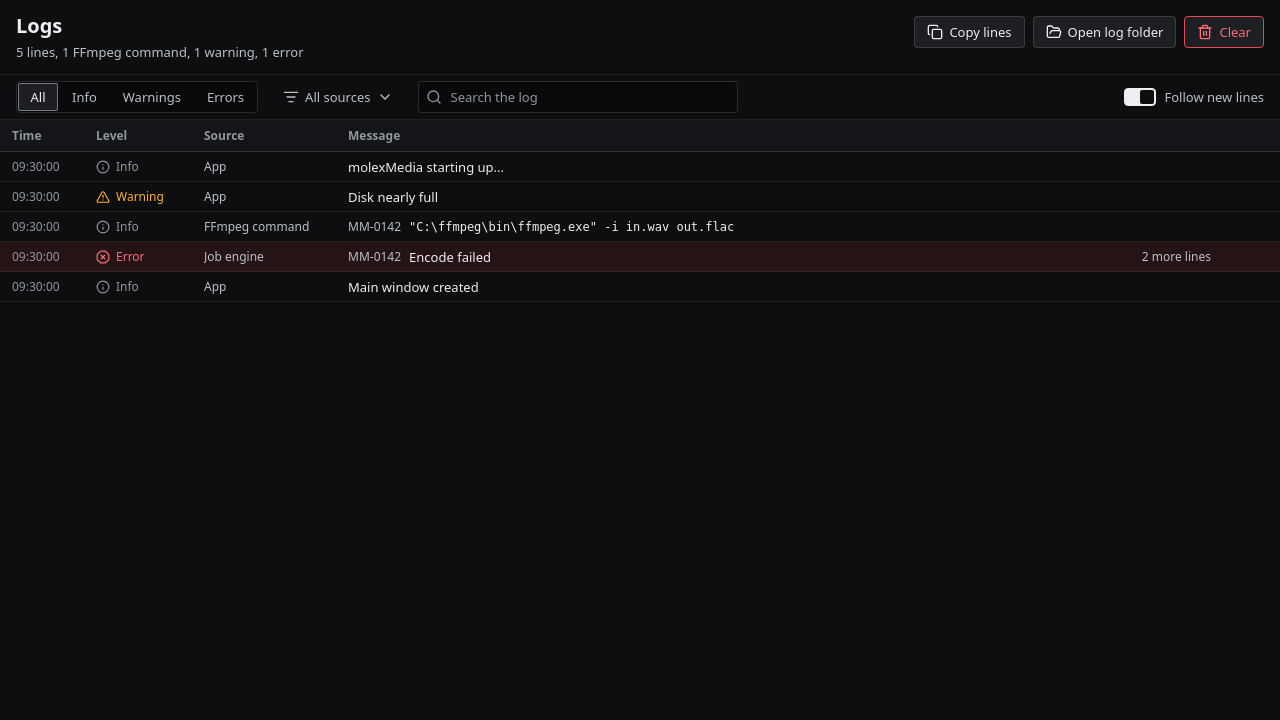
LogViewer list › opens a line's hidden lines from its More lines button
Click the button "2 more lines": click(1176, 257) [1133,245,1220,269]
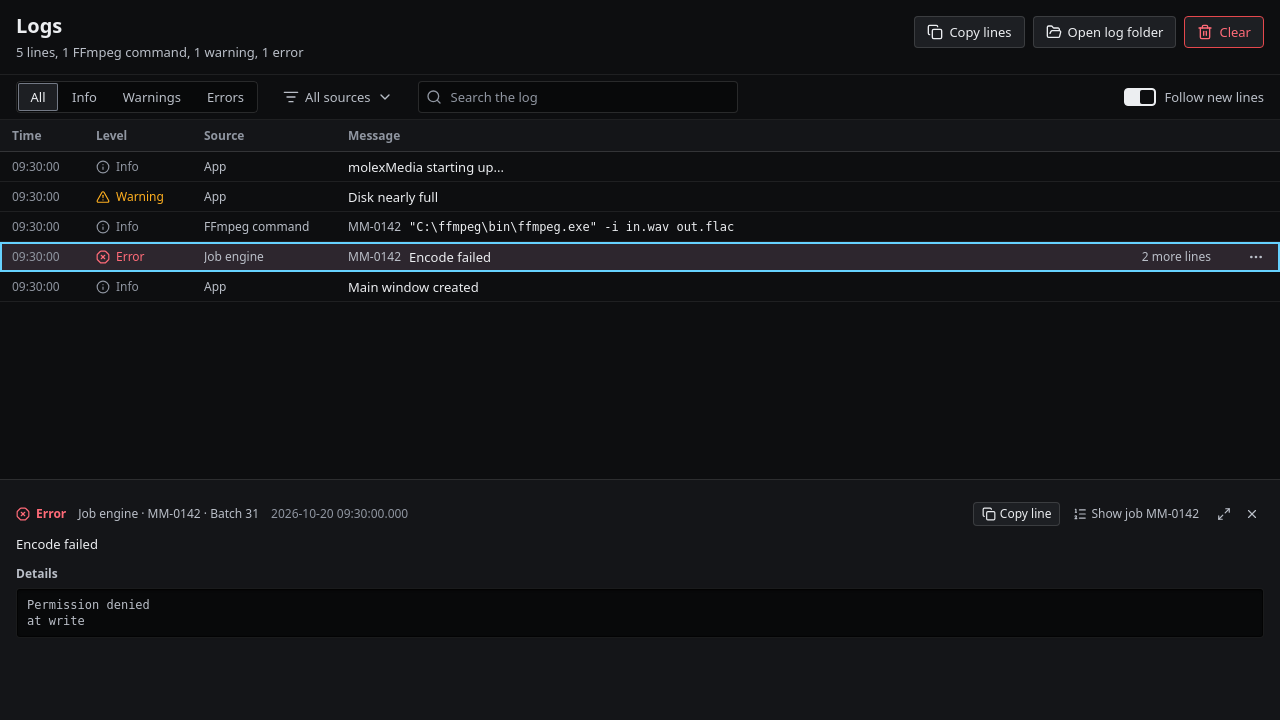
Now the text "Permission denied at write" is shown, box [16,588,1264,638]
